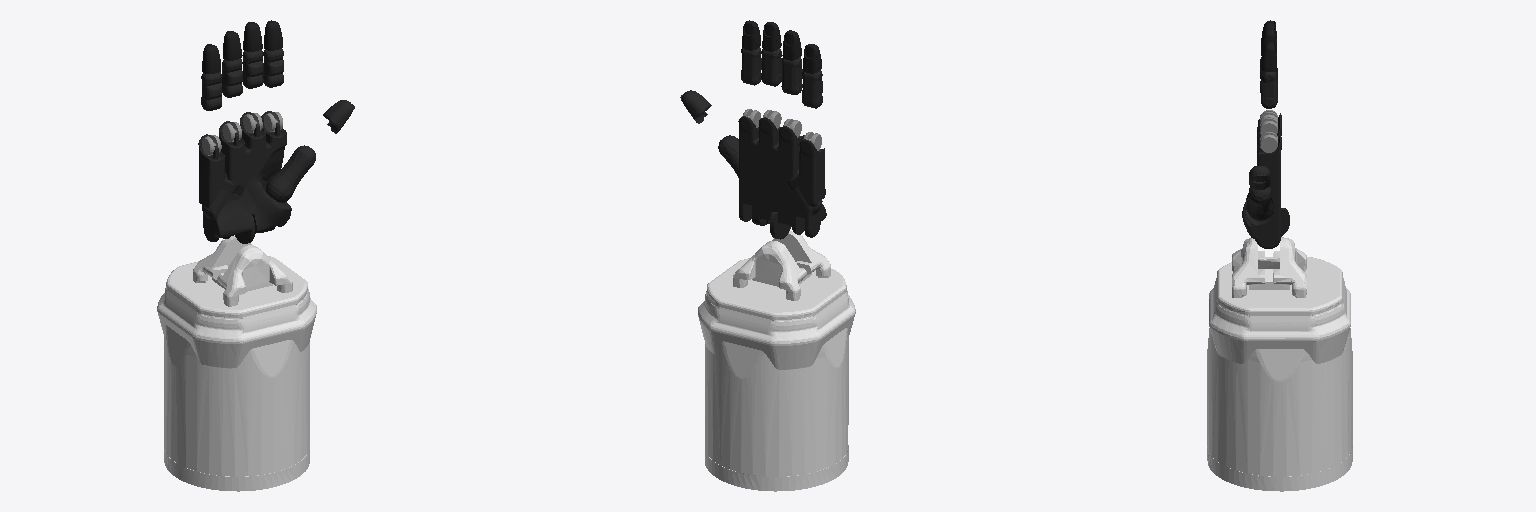
--- Facts derived from the render (not from the file) ---
3 views of the same robot in one strip: view 1: azimuth 30°, elevation 25°; view 2: azimuth 150°, elevation 25°; view 3: azimuth 270°, elevation 25° (orthographic).
Model shadow_hand with 32 links and 31 joints (24 revolute, 7 fixed), rooted at rh_forearm, posed every joint at zero.
Visible links, largest first — view 1: rh_forearm, rh_palm, rh_lfmetacarpal, rh_thproximal, rh_rfmiddle, rh_lfmiddle, rh_mfmiddle, rh_ffmiddle, rh_thdistal; view 2: rh_forearm, rh_palm, rh_lfmetacarpal, rh_rfmiddle, rh_lfmiddle, rh_mfmiddle, rh_ffmiddle, rh_thdistal, rh_thproximal; view 3: rh_forearm, rh_palm, rh_thproximal, rh_ffmiddle.
Link boxes in pixels (x1,y1,x2,y2): rh_forearm: [157, 236, 316, 491]; rh_palm: [202, 111, 291, 243]; rh_lfmetacarpal: [198, 134, 239, 207]; rh_thproximal: [266, 145, 315, 202]; rh_rfmiddle: [222, 59, 242, 97]; rh_lfmiddle: [201, 72, 221, 110]; rh_mfmiddle: [242, 50, 263, 88]; rh_ffmiddle: [263, 49, 283, 87]; rh_thdistal: [323, 100, 354, 133]; rh_forearm: [698, 231, 855, 491]; rh_palm: [738, 116, 826, 239]; rh_lfmetacarpal: [785, 139, 825, 206]; rh_rfmiddle: [781, 57, 802, 94]; rh_lfmiddle: [802, 70, 822, 108]; rh_mfmiddle: [761, 48, 781, 86]; rh_ffmiddle: [741, 47, 761, 85]; rh_thdistal: [680, 90, 711, 123]; rh_thproximal: [718, 135, 738, 177]; rh_forearm: [1207, 237, 1352, 491]; rh_palm: [1242, 115, 1289, 248]; rh_thproximal: [1246, 186, 1272, 220]; rh_ffmiddle: [1260, 71, 1277, 108].
Bounding box of the posed robot: 0.1809 × 0.1351 × 0.4479 m (x, y, z).
17 mesh visuals loaded from 11 distinct referenced files (8 Collada DAE); not drawn: 6 (reference not matched to a file when rendering).

robot.urdf — shadow_hand:
<?xml version="1.0" ?>
<!-- =================================================================================== -->
<!-- |    This document was autogenerated by xacro from shadow_hand.urdf.xacro         | -->
<!-- |    EDITING THIS FILE BY HAND IS NOT RECOMMENDED                                 | -->
<!-- =================================================================================== -->
<robot name="shadow_hand" xmlns:controller="http://playerstage.sourceforge.net/gazebo/xmlschema/#controller" xmlns:interface="http://playerstage.sourceforge.net/gazebo/xmlschema/#interface" xmlns:sensor="http://playerstage.sourceforge.net/gazebo/xmlschema/#sensor">
  <material name="Blue">
    <color rgba="0.0 0.0 0.8 1.0"/>
  </material>
  <material name="Green">
    <color rgba="0.0 0.8 0.0 1.0"/>
  </material>
  <material name="BiotacGreen">
    <color rgba="0.31 0.85 0.42 1.0"/>
  </material>
  <material name="Grey">
    <color rgba="0.2 0.2 0.2 1.0"/>
  </material>
  <material name="LightGrey">
    <color rgba="0.6 0.6 0.6 1.0"/>
  </material>
  <material name="Red">
    <color rgba="0.8 0.0 0.0 1.0"/>
  </material>
  <material name="White">
    <color rgba="1.0 1.0 1.0 1.0"/>
  </material>
  <gazebo>
    <plugin filename="libgazebo_ros_control.so" name="gazebo_ros_control">
      <robotSimType>sr_gazebo_sim/SrGazeboHWSim</robotSimType>
    </plugin>
  </gazebo>
  <link name="rh_forearm">
    <inertial>
      <origin rpy="0 0 0" xyz="0 0 0.09"/>
      <mass value="3.0"/>
      <inertia ixx="0.0138" ixy="0.0" ixz="0.0" iyy="0.0138" iyz="0.0" izz="0.00744"/>
    </inertial>
    <visual>
      <origin rpy="0 0 0" xyz="0 0 0.0"/>
      <geometry name="rh_forearm_visual">
        <mesh filename="package://sr_description/meshes/components/forearm/forearm_E3M5.dae" scale="0.001 0.001 0.001"/>
      </geometry>
      <material name="light_grey">
        <color rgba="0.90000 0.90000 0.90000 1.0"/>
      </material>
    </visual>
    <collision>
      <origin rpy="0 0 0" xyz="0 0 0.0"/>
      <geometry name="rh_forearm_collision">
        <mesh filename="package://sr_description/meshes/components/forearm/forearm_collision_E3M5.dae" scale="0.001 0.001 0.001"/>
      </geometry>
    </collision>
    <!-- wrist mount -->
    <collision>
      <origin rpy="0 0.78 0" xyz="0 -0.01 0.181"/>
      <geometry>
        <box size="0.07 0.07 0.07"/>
      </geometry>
    </collision>
    <!-- TODO: Make a decision on whether to add the connector or not -->
    <!--visual>
        <origin rpy="0 -1.57 -1.57" xyz="0.0 0.067 0.0045"/>
        <geometry name="${prefix}cable_extr_visualisation">
          <mesh filename="package://sr_description/meshes/components/cable_connector/cable_connector_base_${hand_version}.dae" scale="0.001 0.001 0.001" />
        </geometry>
      </visual-->
  </link>
  <gazebo reference="rh_forearm">
    <selfCollide>false</selfCollide>
  </gazebo>
  <link name="rh_wrist">
    <inertial>
      <origin rpy="0 0 0" xyz="0 0 0.029"/>
      <mass value="0.1"/>
      <inertia ixx="0.000035" ixy="0.0" ixz="0.0" iyy="0.000064" iyz="0.0" izz="0.0000438"/>
    </inertial>
    <visual>
      <origin rpy="0 0 0" xyz="0 0 0"/>
      <geometry name="rh_wrist_visual">
        <mesh filename="package://sr_description/meshes/components/wrist/wrist_E3M5.dae" scale="0.001 0.001 0.001"/>
      </geometry>
      <material name="LightGrey"/>
    </visual>
    <collision>
      <origin rpy="1.5708 1.5708 0" xyz="0 0 0"/>
      <geometry name="rh_wrist_collision_geom">
        <cylinder length="0.030" radius="0.0135"/>
      </geometry>
    </collision>
    <collision>
      <origin rpy="0 1.5708 0" xyz="-0.026 0 0.034"/>
      <geometry>
        <cylinder length="0.010" radius="0.011"/>
      </geometry>
    </collision>
    <collision>
      <origin rpy="0 1.5708 0" xyz="0.031 0 0.034"/>
      <geometry>
        <cylinder length="0.010" radius="0.011"/>
      </geometry>
    </collision>
    <collision>
      <origin rpy="0 0.7854 0" xyz="-0.021 0 0.011"/>
      <geometry>
        <box size="0.027 0.018 0.010"/>
      </geometry>
    </collision>
    <collision>
      <origin rpy="0 -0.7854 0" xyz="0.026 0 0.010"/>
      <geometry>
        <box size="0.027 0.018 0.010"/>
      </geometry>
    </collision>
  </link>
  <gazebo reference="rh_wrist">
    <material>Gazebo/White</material>
    <selfCollide>false</selfCollide>
  </gazebo>
  <joint name="rh_WRJ2" type="revolute">
    <parent link="rh_forearm"/>
    <child link="rh_wrist"/>
    <origin rpy="0 0 0" xyz="0 -0.010 0.21301"/>
    <axis xyz="0 1 0"/>
    <limit effort="10" lower="-0.5235987755982988" upper="0.17453292519943295" velocity="2.0"/>
    <dynamics damping="0.1"/>
  </joint>
  <gazebo reference="rh_WRJ2">
    <provideFeedback>1</provideFeedback>
    <implicitSpringDamper>1</implicitSpringDamper>
  </gazebo>
  <transmission name="rh_wrist_transmission">
    <type>sr_mechanism_model/SimpleTransmission</type>
    <actuator name="rh_WRJ2">
      <mechanicalReduction>1</mechanicalReduction>
    </actuator>
    <joint name="rh_WRJ2">
      <hardwareInterface>EffortJointInterface</hardwareInterface>
      <hardwareInterface>PositionJointInterface</hardwareInterface>
    </joint>
  </transmission>
  <link name="rh_palm">
    <inertial>
      <origin rpy="0 0 0" xyz="0 0 0.035"/>
      <mass value="0.3"/>
      <inertia ixx="0.0003581" ixy="0.0" ixz="0.0" iyy="0.0005287" iyz="0.0" izz="0.000191"/>
    </inertial>
    <visual>
      <origin rpy="0 0 0" xyz="0 0 0"/>
      <geometry name="rh_palm_visual">
        <mesh filename="package://sr_description/meshes/components/palm/palm_E3M5.dae" scale="0.001 0.001 0.001"/>
      </geometry>
      <material name="Grey"/>
    </visual>
    <collision>
      <origin rpy="0 0 0" xyz="0.011 0.0085 0.038"/>
      <geometry name="rh_palm_collision_geom">
        <box size="0.062 0.007 0.098"/>
      </geometry>
    </collision>
    <collision>
      <origin rpy="0 0 0" xyz="-0.002 -0.0035 0.038"/>
      <geometry>
        <box size="0.036 0.017 0.098"/>
      </geometry>
    </collision>
    <!-- palm complement below first finger -->
    <collision>
      <origin rpy="0 0 0" xyz="0.029 -0.0035 0.082"/>
      <geometry>
        <box size="0.026 0.017 0.010"/>
      </geometry>
    </collision>
    <collision>
      <origin rpy="0.2 0 0.25" xyz="0.0265 -0.001 0.070"/>
      <geometry>
        <box size="0.026 0.014 0.018"/>
      </geometry>
    </collision>
    <!-- thumb pulp side -->
    <collision>
      <origin rpy="0 0 0" xyz="0.0315 -0.0085 0.001"/>
      <geometry>
        <box size="0.021 0.027 0.024"/>
      </geometry>
    </collision>
    <!-- thumb pulp central -->
    <collision>
      <origin rpy="0 0 -0.48" xyz="0.0125 -0.015 0.009"/>
      <geometry>
        <box size="0.022 0.005 0.040"/>
      </geometry>
    </collision>
    <!-- above middle finger-->
    <collision>
      <origin rpy="0 0 0" xyz="0.011 0 0.089"/>
      <geometry>
        <box size="0.018 0.024 0.004"/>
      </geometry>
    </collision>
    <!-- metacarpal side-->
    <collision>
      <origin rpy="0 0 0" xyz="-0.03 0 0.009"/>
      <geometry>
        <box size="0.020 0.024 0.040"/>
      </geometry>
    </collision>
  </link>
  <joint name="rh_ee_fixed_joint" type="fixed">
    <parent link="rh_palm"/>
    <child link="rh_manipulator"/>
    <origin rpy="0.0 0.0 0.0" xyz="0.0 0.0 0.05"/>
  </joint>
  <link name="rh_manipulator">
    <inertial>
      <mass value="0.0"/>
      <origin rpy="0 0 0" xyz="0 0 0"/>
      <inertia ixx="0.0" ixy="0.0" ixz="0.0" iyy="0.0" iyz="0.0" izz="0.0"/>
    </inertial>
  </link>
  <joint name="rh_WRJ1" type="revolute">
    <parent link="rh_wrist"/>
    <child link="rh_palm"/>
    <origin rpy="0 0 0" xyz="0 0 0.034"/>
    <axis xyz="1 0 0"/>
    <limit effort="30" lower="-0.6981317007977318" upper="0.4886921905584123" velocity="2.0"/>
    <dynamics damping="0.1"/>
  </joint>
  <gazebo reference="rh_WRJ1">
    <provideFeedback>1</provideFeedback>
    <implicitSpringDamper>1</implicitSpringDamper>
  </gazebo>
  <link name="rh_imu">
    <inertial>
      <mass value="0.0"/>
      <origin rpy="0 0 0" xyz="0 0 0"/>
      <inertia ixx="0.0" ixy="0.0" ixz="0.0" iyy="0.0" iyz="0.0" izz="0.0"/>
    </inertial>
  </link>
  <joint name="rh_palm_to_imu" type="fixed">
    <parent link="rh_palm"/>
    <child link="rh_imu"/>
    <origin rpy="-1.5707963 3.141592 0.0" xyz="0.01785 0.00765 0.049125"/>
  </joint>
  <transmission name="rh_palm_transmission">
    <type>sr_mechanism_model/SimpleTransmission</type>
    <actuator name="rh_WRJ1">
      <mechanicalReduction>1</mechanicalReduction>
    </actuator>
    <joint name="rh_WRJ1">
      <hardwareInterface>EffortJointInterface</hardwareInterface>
      <hardwareInterface>PositionJointInterface</hardwareInterface>
    </joint>
  </transmission>
  <gazebo reference="rh_palm">
  </gazebo>
  <link name="rh_ffknuckle">
    <inertial>
      <origin rpy="0 0 0" xyz="0 0 0"/>
      <mass value="0.008"/>
      <inertia ixx="0.00000026" ixy="0.0" ixz="0.0" iyy="0.00000026" iyz="0.0" izz="0.00000032"/>
    </inertial>
    <visual>
      <origin rpy="0 0 0" xyz="0 0 0.0005"/>
      <geometry name="rh_ffknuckle_visual">
        <mesh filename="package://sr_description/meshes/components/f_knuckle/f_knuckle_E3M5.dae" scale="0.001 0.001 0.001"/>
      </geometry>
      <material name="LightGrey"/>
    </visual>
    <collision>
      <origin rpy="0 1.5708 0" xyz="0 0 0"/>
      <geometry name="rh_ffknuckle_collision_geom">
        <cylinder length="0.014" radius="0.007"/>
      </geometry>
    </collision>
  </link>
  <joint name="rh_FFJ4" type="revolute">
    <parent link="rh_palm"/>
    <child link="rh_ffknuckle"/>
    <!--<origin xyz="0.033 0 0.095" rpy="0 0 0" />-->
    <origin rpy="0 0 0" xyz="0.033 0 0.095"/>
    <axis xyz="0 -1 0"/>
    <limit effort="2" lower="-0.3490658503988659" upper="0.3490658503988659" velocity="2.0"/>
    <dynamics damping="0.1"/>
  </joint>
  <gazebo reference="rh_FFJ4">
    <provideFeedback>1</provideFeedback>
    <implicitSpringDamper>1</implicitSpringDamper>
  </gazebo>
  <transmission name="rh_ffknuckle_transmission">
    <type>sr_mechanism_model/SimpleTransmission</type>
    <actuator name="rh_FFJ4">
      <mechanicalReduction>1</mechanicalReduction>
    </actuator>
    <joint name="rh_FFJ4">
      <hardwareInterface>EffortJointInterface</hardwareInterface>
      <hardwareInterface>PositionJointInterface</hardwareInterface>
    </joint>
  </transmission>
  <gazebo reference="rh_ffknuckle">
    <!-- knuckle is not highly exposed, so bumper is not useful -->
    <material>Gazebo/Grey</material>
  </gazebo>
  <link name="rh_ffproximal">
    <inertial>
      <mass value="0.030"/>
      <origin xyz="0 0 0.0225"/>
      <inertia ixx="0.0000098" ixy="0.0" ixz="0.0" iyy="0.00001" iyz="0.0" izz="0.0000018"/>
    </inertial>
    <visual>
      <origin rpy="0 0 0" xyz="0 0 0"/>
      <geometry name="rh_ffproximal_visual">
        <mesh filename="package://sr_description/meshes/components/f_proximal/f_proximal_E3M5.dae" scale="0.001 0.001 0.001"/>
      </geometry>
      <material name="Grey"/>
    </visual>
    <collision>
      <origin rpy="0 0 0" xyz="0 0 0.025"/>
      <geometry name="rh_ffproximal_collision_geom">
        <cylinder length="0.040" radius="0.007"/>
      </geometry>
    </collision>
  </link>
  <joint name="rh_FFJ3" type="revolute">
    <parent link="rh_ffknuckle"/>
    <child link="rh_ffproximal"/>
    <origin rpy="0 0 0" xyz="0 0 0"/>
    <axis xyz="1 0 0"/>
    <limit effort="2" lower="-0.2617993877991494" upper="1.5707963267948966" velocity="2.0"/>
    <dynamics damping="0.1"/>
  </joint>
  <gazebo reference="rh_FFJ3">
    <provideFeedback>1</provideFeedback>
    <implicitSpringDamper>1</implicitSpringDamper>
  </gazebo>
  <transmission name="rh_ffproximal_transmission">
    <type>sr_mechanism_model/SimpleTransmission</type>
    <actuator name="rh_FFJ3">
      <mechanicalReduction>1</mechanicalReduction>
    </actuator>
    <joint name="rh_FFJ3">
      <hardwareInterface>EffortJointInterface</hardwareInterface>
      <hardwareInterface>PositionJointInterface</hardwareInterface>
    </joint>
  </transmission>
  <gazebo reference="rh_ffproximal">
    <selfCollide>true</selfCollide>
  </gazebo>
  <link name="rh_ffmiddle">
    <inertial>
      <origin rpy="0 0 0" xyz="0 0 0.0125"/>
      <mass value="0.017"/>
      <inertia ixx="0.0000026" ixy="0.0" ixz="0.0" iyy="0.0000027" iyz="0.0" izz="0.00000087"/>
    </inertial>
    <visual>
      <origin rpy="0 0 0" xyz="0 0 0"/>
      <geometry name="rh_ffmiddle_visual">
        <mesh filename="package://sr_description/meshes/components/f_middle/f_middle_E3M5.dae" scale="0.001 0.001 0.001"/>
      </geometry>
      <material name="Grey"/>
    </visual>
    <collision>
      <origin rpy="0 0 0" xyz="0 0 0.0125"/>
      <geometry name="rh_ffmiddle_collision_geom">
        <cylinder length="0.025" radius="0.007"/>
      </geometry>
    </collision>
    <collision>
      <origin rpy="0 0 0" xyz="0 0 0.0"/>
      <geometry>
        <sphere radius="0.007"/>
      </geometry>
    </collision>
    <collision>
      <origin rpy="0 0 0" xyz="0 0 0.025"/>
      <geometry>
        <sphere radius="0.007"/>
      </geometry>
    </collision>
  </link>
  <joint name="rh_FFJ2" type="revolute">
    <parent link="rh_ffproximal"/>
    <child link="rh_ffmiddle"/>
    <origin rpy="0 0 0" xyz="0 0 0.045"/>
    <axis xyz="1 0 0"/>
    <limit effort="2" lower="0" upper="1.5707963267948966" velocity="2.0"/>
    <dynamics damping="0.1"/>
  </joint>
  <gazebo reference="rh_FFJ2">
    <provideFeedback>1</provideFeedback>
    <implicitSpringDamper>1</implicitSpringDamper>
  </gazebo>
  <transmission name="rh_ffmiddle_transmission">
    <type>sr_mechanism_model/J0Transmission</type>
    <actuator name="rh_FFJ0">
      <mechanicalReduction>1</mechanicalReduction>
    </actuator>
    <joint name="rh_FFJ1">
      <hardwareInterface>EffortJointInterface</hardwareInterface>
      <hardwareInterface>PositionJointInterface</hardwareInterface>
    </joint>
  </transmission>
  <gazebo reference="rh_ffmiddle">
    <selfCollide>true</selfCollide>
  </gazebo>
  <link name="rh_ffdistal">
    <inertial>
      <mass value="0.012"/>
      <origin xyz="0 0 0.012"/>
      <inertia ixx="0.00000094" ixy="0.0" ixz="0.0" iyy="0.0000011" iyz="0.0" izz="0.00000053"/>
    </inertial>
    <visual>
      <origin rpy="0 0 0" xyz="0 0 0"/>
      <geometry name="rh_ffdistal_visual">
        <mesh filename="package://sr_description/meshes/components/f_distal/pst/f_distal_pst.dae" scale="0.001 0.001 0.001"/>
      </geometry>
    </visual>
    <collision>
      <origin rpy="0 0 0" xyz="0 0 0"/>
      <geometry name="rh_ffdistal_collision_geom">
        <mesh filename="package://sr_description/meshes/components/f_distal/pst/f_distal_pst.dae" scale="0.001 0.001 0.001"/>
      </geometry>
    </collision>
  </link>
  <joint name="rh_FFJ1" type="revolute">
    <parent link="rh_ffmiddle"/>
    <child link="rh_ffdistal"/>
    <origin rpy="0 0 0" xyz="0 0 0.025"/>
    <axis xyz="1 0 0"/>
    <!-- standard distal joint -->
    <limit effort="2" lower="0" upper="1.5707963267948966" velocity="2.0"/>
    <dynamics damping="0.1"/>
  </joint>
  <gazebo reference="rh_FFJ1">
    <provideFeedback>1</provideFeedback>
    <implicitSpringDamper>1</implicitSpringDamper>
  </gazebo>
  <link name="rh_fftip">
    <inertial>
      <mass value="0.001"/>
      <inertia ixx="0.0" ixy="0.0" ixz="0.0" iyy="0.0" iyz="0.0" izz="0.0"/>
    </inertial>
  </link>
  <joint name="rh_FFtip" type="fixed">
    <parent link="rh_ffdistal"/>
    <child link="rh_fftip"/>
    <origin rpy="0 0 0" xyz="0 0 0.026"/>
  </joint>
  <gazebo reference="rh_ffdistal">
    <sensor name="rh_ffdistal_contact" type="contact">
      <always_on>1</always_on>
      <update_rate>1000.0</update_rate>
      <contact>
        <collision>rh_ffdistal_collision</collision>
        <topic>rh_ffdistal_collision</topic>
      </contact>
      <plugin filename="libgazebo_ros_bumper.so" name="rh_ffdistal_gazebo_ros_bumper_controller">
        <alwaysOn>true</alwaysOn>
        <frameName>rh_ffdistal</frameName>
        <updateRate>100.0</updateRate>
        <bumperTopicName>contacts/rh_ff/distal</bumperTopicName>
      </plugin>
    </sensor>
    <mu1 value="500.0"/>
    <mu2 value="500.0"/>
    <kp value="10000000.0"/>
    <kd value="1.0"/>
    <selfCollide>true</selfCollide>
  </gazebo>
  <link name="rh_mfknuckle">
    <inertial>
      <origin rpy="0 0 0" xyz="0 0 0"/>
      <mass value="0.008"/>
      <inertia ixx="0.00000026" ixy="0.0" ixz="0.0" iyy="0.00000026" iyz="0.0" izz="0.00000032"/>
    </inertial>
    <visual>
      <origin rpy="0 0 0" xyz="0 0 0.0005"/>
      <geometry name="rh_mfknuckle_visual">
        <mesh filename="package://sr_description/meshes/components/f_knuckle/f_knuckle_E3M5.dae" scale="0.001 0.001 0.001"/>
      </geometry>
      <material name="LightGrey"/>
    </visual>
    <collision>
      <origin rpy="0 1.5708 0" xyz="0 0 0"/>
      <geometry name="rh_mfknuckle_collision_geom">
        <cylinder length="0.014" radius="0.007"/>
      </geometry>
    </collision>
  </link>
  <joint name="rh_MFJ4" type="revolute">
    <parent link="rh_palm"/>
    <child link="rh_mfknuckle"/>
    <!--<origin xyz="0.033 0 0.095" rpy="0 0 0" />-->
    <origin rpy="0 0 0" xyz="0.011 0 0.099"/>
    <axis xyz="0 -1 0"/>
    <limit effort="2" lower="-0.3490658503988659" upper="0.3490658503988659" velocity="2.0"/>
    <dynamics damping="0.1"/>
  </joint>
  <gazebo reference="rh_MFJ4">
    <provideFeedback>1</provideFeedback>
    <implicitSpringDamper>1</implicitSpringDamper>
  </gazebo>
  <transmission name="rh_mfknuckle_transmission">
    <type>sr_mechanism_model/SimpleTransmission</type>
    <actuator name="rh_MFJ4">
      <mechanicalReduction>1</mechanicalReduction>
    </actuator>
    <joint name="rh_MFJ4">
      <hardwareInterface>EffortJointInterface</hardwareInterface>
      <hardwareInterface>PositionJointInterface</hardwareInterface>
    </joint>
  </transmission>
  <gazebo reference="rh_mfknuckle">
    <!-- knuckle is not highly exposed, so bumper is not useful -->
    <material>Gazebo/Grey</material>
  </gazebo>
  <link name="rh_mfproximal">
    <inertial>
      <mass value="0.030"/>
      <origin xyz="0 0 0.0225"/>
      <inertia ixx="0.0000098" ixy="0.0" ixz="0.0" iyy="0.00001" iyz="0.0" izz="0.0000018"/>
    </inertial>
    <visual>
      <origin rpy="0 0 0" xyz="0 0 0"/>
      <geometry name="rh_mfproximal_visual">
        <mesh filename="package://sr_description/meshes/components/f_proximal/f_proximal_E3M5.dae" scale="0.001 0.001 0.001"/>
      </geometry>
      <material name="Grey"/>
    </visual>
    <collision>
      <origin rpy="0 0 0" xyz="0 0 0.025"/>
      <geometry name="rh_mfproximal_collision_geom">
        <cylinder length="0.040" radius="0.007"/>
      </geometry>
    </collision>
  </link>
  <joint name="rh_MFJ3" type="revolute">
    <parent link="rh_mfknuckle"/>
    <child link="rh_mfproximal"/>
    <origin rpy="0 0 0" xyz="0 0 0"/>
    <axis xyz="1 0 0"/>
    <limit effort="2" lower="-0.2617993877991494" upper="1.5707963267948966" velocity="2.0"/>
    <dynamics damping="0.1"/>
  </joint>
  <gazebo reference="rh_MFJ3">
    <provideFeedback>1</provideFeedback>
    <implicitSpringDamper>1</implicitSpringDamper>
  </gazebo>
  <transmission name="rh_mfproximal_transmission">
    <type>sr_mechanism_model/SimpleTransmission</type>
    <actuator name="rh_MFJ3">
      <mechanicalReduction>1</mechanicalReduction>
    </actuator>
    <joint name="rh_MFJ3">
      <hardwareInterface>EffortJointInterface</hardwareInterface>
      <hardwareInterface>PositionJointInterface</hardwareInterface>
    </joint>
  </transmission>
  <gazebo reference="rh_mfproximal">
    <selfCollide>true</selfCollide>
  </gazebo>
  <link name="rh_mfmiddle">
    <inertial>
      <origin rpy="0 0 0" xyz="0 0 0.0125"/>
      <mass value="0.017"/>
      <inertia ixx="0.0000026" ixy="0.0" ixz="0.0" iyy="0.0000027" iyz="0.0" izz="0.00000087"/>
    </inertial>
    <visual>
      <origin rpy="0 0 0" xyz="0 0 0"/>
      <geometry name="rh_mfmiddle_visual">
        <mesh filename="package://sr_description/meshes/components/f_middle/f_middle_E3M5.dae" scale="0.001 0.001 0.001"/>
      </geometry>
      <material name="Grey"/>
    </visual>
    <collision>
      <origin rpy="0 0 0" xyz="0 0 0.0125"/>
      <geometry name="rh_mfmiddle_collision_geom">
        <cylinder length="0.025" radius="0.007"/>
      </geometry>
    </collision>
    <collision>
      <origin rpy="0 0 0" xyz="0 0 0.0"/>
      <geometry>
        <sphere radius="0.007"/>
      </geometry>
    </collision>
    <collision>
      <origin rpy="0 0 0" xyz="0 0 0.025"/>
      <geometry>
        <sphere radius="0.007"/>
      </geometry>
    </collision>
  </link>
  <joint name="rh_MFJ2" type="revolute">
    <parent link="rh_mfproximal"/>
    <child link="rh_mfmiddle"/>
    <origin rpy="0 0 0" xyz="0 0 0.045"/>
    <axis xyz="1 0 0"/>
    <limit effort="2" lower="0" upper="1.5707963267948966" velocity="2.0"/>
    <dynamics damping="0.1"/>
  </joint>
  <gazebo reference="rh_MFJ2">
    <provideFeedback>1</provideFeedback>
    <implicitSpringDamper>1</implicitSpringDamper>
  </gazebo>
  <transmission name="rh_mfmiddle_transmission">
    <type>sr_mechanism_model/J0Transmission</type>
    <actuator name="rh_MFJ0">
      <mechanicalReduction>1</mechanicalReduction>
    </actuator>
    <joint name="rh_MFJ1">
      <hardwareInterface>EffortJointInterface</hardwareInterface>
      <hardwareInterface>PositionJointInterface</hardwareInterface>
    </joint>
  </transmission>
  <gazebo reference="rh_mfmiddle">
    <selfCollide>true</selfCollide>
  </gazebo>
  <link name="rh_mfdistal">
    <inertial>
      <mass value="0.012"/>
      <origin xyz="0 0 0.012"/>
      <inertia ixx="0.00000094" ixy="0.0" ixz="0.0" iyy="0.0000011" iyz="0.0" izz="0.00000053"/>
    </inertial>
    <visual>
      <origin rpy="0 0 0" xyz="0 0 0"/>
      <geometry name="rh_mfdistal_visual">
        <mesh filename="package://sr_description/meshes/components/f_distal/pst/f_distal_pst.dae" scale="0.001 0.001 0.001"/>
      </geometry>
    </visual>
    <collision>
      <origin rpy="0 0 0" xyz="0 0 0"/>
      <geometry name="rh_mfdistal_collision_geom">
        <mesh filename="package://sr_description/meshes/components/f_distal/pst/f_distal_pst.dae" scale="0.001 0.001 0.001"/>
      </geometry>
    </collision>
  </link>
  <joint name="rh_MFJ1" type="revolute">
    <parent link="rh_mfmiddle"/>
    <child link="rh_mfdistal"/>
    <origin rpy="0 0 0" xyz="0 0 0.025"/>
    <axis xyz="1 0 0"/>
    <!-- standard distal joint -->
    <limit effort="2" lower="0" upper="1.5707963267948966" velocity="2.0"/>
    <dynamics damping="0.1"/>
  </joint>
  <gazebo reference="rh_MFJ1">
    <provideFeedback>1</provideFeedback>
    <implicitSpringDamper>1</implicitSpringDamper>
  </gazebo>
  <link name="rh_mftip">
    <inertial>
      <mass value="0.001"/>
      <inertia ixx="0.0" ixy="0.0" ixz="0.0" iyy="0.0" iyz="0.0" izz="0.0"/>
    </inertial>
  </link>
  <joint name="rh_MFtip" type="fixed">
    <parent link="rh_mfdistal"/>
    <child link="rh_mftip"/>
    <origin rpy="0 0 0" xyz="0 0 0.026"/>
  </joint>
  <gazebo reference="rh_mfdistal">
    <sensor name="rh_mfdistal_contact" type="contact">
      <always_on>1</always_on>
      <update_rate>1000.0</update_rate>
      <contact>
        <collision>rh_mfdistal_collision</collision>
        <topic>rh_mfdistal_collision</topic>
      </contact>
      <plugin filename="libgazebo_ros_bumper.so" name="rh_mfdistal_gazebo_ros_bumper_controller">
        <alwaysOn>true</alwaysOn>
        <frameName>rh_mfdistal</frameName>
        <updateRate>100.0</updateRate>
        <bumperTopicName>contacts/rh_mf/distal</bumperTopicName>
      </plugin>
    </sensor>
    <mu1 value="500.0"/>
    <mu2 value="500.0"/>
    <kp value="10000000.0"/>
    <kd value="1.0"/>
    <selfCollide>true</selfCollide>
  </gazebo>
  <link name="rh_rfknuckle">
    <inertial>
      <origin rpy="0 0 0" xyz="0 0 0"/>
      <mass value="0.008"/>
      <inertia ixx="0.00000026" ixy="0.0" ixz="0.0" iyy="0.00000026" iyz="0.0" izz="0.00000032"/>
    </inertial>
    <visual>
      <origin rpy="0 0 0" xyz="0 0 0.0005"/>
      <geometry name="rh_rfknuckle_visual">
        <mesh filename="package://sr_description/meshes/components/f_knuckle/f_knuckle_E3M5.dae" scale="0.001 0.001 0.001"/>
      </geometry>
      <material name="LightGrey"/>
    </visual>
    <collision>
      <origin rpy="0 1.5708 0" xyz="0 0 0"/>
      <geometry name="rh_rfknuckle_collision_geom">
        <cylinder length="0.014" radius="0.007"/>
      </geometry>
    </collision>
  </link>
  <joint name="rh_RFJ4" type="revolute">
    <parent link="rh_palm"/>
    <child link="rh_rfknuckle"/>
    <!--<origin xyz="0.033 0 0.095" rpy="0 0 0" />-->
    <origin rpy="0 0 0" xyz="-0.011 0 0.095"/>
    <axis xyz="0 1 0"/>
    <limit effort="2" lower="-0.3490658503988659" upper="0.3490658503988659" velocity="2.0"/>
    <dynamics damping="0.1"/>
  </joint>
  <gazebo reference="rh_RFJ4">
    <provideFeedback>1</provideFeedback>
    <implicitSpringDamper>1</implicitSpringDamper>
  </gazebo>
  <transmission name="rh_rfknuckle_transmission">
    <type>sr_mechanism_model/SimpleTransmission</type>
    <actuator name="rh_RFJ4">
      <mechanicalReduction>1</mechanicalReduction>
    </actuator>
    <joint name="rh_RFJ4">
      <hardwareInterface>EffortJointInterface</hardwareInterface>
      <hardwareInterface>PositionJointInterface</hardwareInterface>
    </joint>
  </transmission>
  <gazebo reference="rh_rfknuckle">
    <!-- knuckle is not highly exposed, so bumper is not useful -->
    <material>Gazebo/Grey</material>
  </gazebo>
  <link name="rh_rfproximal">
    <inertial>
      <mass value="0.030"/>
      <origin xyz="0 0 0.0225"/>
      <inertia ixx="0.0000098" ixy="0.0" ixz="0.0" iyy="0.00001" iyz="0.0" izz="0.0000018"/>
    </inertial>
    <visual>
      <origin rpy="0 0 0" xyz="0 0 0"/>
      <geometry name="rh_rfproximal_visual">
        <mesh filename="package://sr_description/meshes/components/f_proximal/f_proximal_E3M5.dae" scale="0.001 0.001 0.001"/>
      </geometry>
      <material name="Grey"/>
    </visual>
    <collision>
      <origin rpy="0 0 0" xyz="0 0 0.025"/>
      <geometry name="rh_rfproximal_collision_geom">
        <cylinder length="0.040" radius="0.007"/>
      </geometry>
    </collision>
  </link>
  <joint name="rh_RFJ3" type="revolute">
    <parent link="rh_rfknuckle"/>
    <child link="rh_rfproximal"/>
    <origin rpy="0 0 0" xyz="0 0 0"/>
    <axis xyz="1 0 0"/>
    <limit effort="2" lower="-0.2617993877991494" upper="1.5707963267948966" velocity="2.0"/>
    <dynamics damping="0.1"/>
  </joint>
  <gazebo reference="rh_RFJ3">
    <provideFeedback>1</provideFeedback>
    <implicitSpringDamper>1</implicitSpringDamper>
  </gazebo>
  <transmission name="rh_rfproximal_transmission">
    <type>sr_mechanism_model/SimpleTransmission</type>
    <actuator name="rh_RFJ3">
      <mechanicalReduction>1</mechanicalReduction>
    </actuator>
    <joint name="rh_RFJ3">
      <hardwareInterface>EffortJointInterface</hardwareInterface>
      <hardwareInterface>PositionJointInterface</hardwareInterface>
    </joint>
  </transmission>
  <gazebo reference="rh_rfproximal">
    <selfCollide>true</selfCollide>
  </gazebo>
  <link name="rh_rfmiddle">
    <inertial>
      <origin rpy="0 0 0" xyz="0 0 0.0125"/>
      <mass value="0.017"/>
      <inertia ixx="0.0000026" ixy="0.0" ixz="0.0" iyy="0.0000027" iyz="0.0" izz="0.00000087"/>
    </inertial>
    <visual>
      <origin rpy="0 0 0" xyz="0 0 0"/>
      <geometry name="rh_rfmiddle_visual">
        <mesh filename="package://sr_description/meshes/components/f_middle/f_middle_E3M5.dae" scale="0.001 0.001 0.001"/>
      </geometry>
      <material name="Grey"/>
    </visual>
    <collision>
      <origin rpy="0 0 0" xyz="0 0 0.0125"/>
      <geometry name="rh_rfmiddle_collision_geom">
        <cylinder length="0.025" radius="0.007"/>
      </geometry>
    </collision>
    <collision>
      <origin rpy="0 0 0" xyz="0 0 0.0"/>
      <geometry>
        <sphere radius="0.007"/>
      </geometry>
    </collision>
    <collision>
      <origin rpy="0 0 0" xyz="0 0 0.025"/>
      <geometry>
        <sphere radius="0.007"/>
      </geometry>
    </collision>
  </link>
  <joint name="rh_RFJ2" type="revolute">
    <parent link="rh_rfproximal"/>
    <child link="rh_rfmiddle"/>
    <origin rpy="0 0 0" xyz="0 0 0.045"/>
    <axis xyz="1 0 0"/>
    <limit effort="2" lower="0" upper="1.5707963267948966" velocity="2.0"/>
    <dynamics damping="0.1"/>
  </joint>
  <gazebo reference="rh_RFJ2">
    <provideFeedback>1</provideFeedback>
    <implicitSpringDamper>1</implicitSpringDamper>
  </gazebo>
  <transmission name="rh_rfmiddle_transmission">
    <type>sr_mechanism_model/J0Transmission</type>
    <actuator name="rh_RFJ0">
      <mechanicalReduction>1</mechanicalReduction>
    </actuator>
    <joint name="rh_RFJ1">
      <hardwareInterface>EffortJointInterface</hardwareInterface>
      <hardwareInterface>PositionJointInterface</hardwareInterface>
    </joint>
  </transmission>
  <gazebo reference="rh_rfmiddle">
    <selfCollide>true</selfCollide>
  </gazebo>
  <link name="rh_rfdistal">
    <inertial>
      <mass value="0.012"/>
      <origin xyz="0 0 0.012"/>
      <inertia ixx="0.00000094" ixy="0.0" ixz="0.0" iyy="0.0000011" iyz="0.0" izz="0.00000053"/>
    </inertial>
    <visual>
      <origin rpy="0 0 0" xyz="0 0 0"/>
      <geometry name="rh_rfdistal_visual">
        <mesh filename="package://sr_description/meshes/components/f_distal/pst/f_distal_pst.dae" scale="0.001 0.001 0.001"/>
      </geometry>
    </visual>
    <collision>
      <origin rpy="0 0 0" xyz="0 0 0"/>
      <geometry name="rh_rfdistal_collision_geom">
        <mesh filename="package://sr_description/meshes/components/f_distal/pst/f_distal_pst.dae" scale="0.001 0.001 0.001"/>
      </geometry>
    </collision>
  </link>
  <joint name="rh_RFJ1" type="revolute">
    <parent link="rh_rfmiddle"/>
    <child link="rh_rfdistal"/>
    <origin rpy="0 0 0" xyz="0 0 0.025"/>
    <axis xyz="1 0 0"/>
    <!-- standard distal joint -->
    <limit effort="2" lower="0" upper="1.5707963267948966" velocity="2.0"/>
    <dynamics damping="0.1"/>
  </joint>
  <gazebo reference="rh_RFJ1">
    <provideFeedback>1</provideFeedback>
    <implicitSpringDamper>1</implicitSpringDamper>
  </gazebo>
  <link name="rh_rftip">
    <inertial>
      <mass value="0.001"/>
      <inertia ixx="0.0" ixy="0.0" ixz="0.0" iyy="0.0" iyz="0.0" izz="0.0"/>
    </inertial>
  </link>
  <joint name="rh_RFtip" type="fixed">
    <parent link="rh_rfdistal"/>
    <child link="rh_rftip"/>
    <origin rpy="0 0 0" xyz="0 0 0.026"/>
  </joint>
  <gazebo reference="rh_rfdistal">
    <sensor name="rh_rfdistal_contact" type="contact">
      <always_on>1</always_on>
      <update_rate>1000.0</update_rate>
      <contact>
        <collision>rh_rfdistal_collision</collision>
        <topic>rh_rfdistal_collision</topic>
      </contact>
      <plugin filename="libgazebo_ros_bumper.so" name="rh_rfdistal_gazebo_ros_bumper_controller">
        <alwaysOn>true</alwaysOn>
        <frameName>rh_rfdistal</frameName>
        <updateRate>100.0</updateRate>
        <bumperTopicName>contacts/rh_rf/distal</bumperTopicName>
      </plugin>
    </sensor>
    <mu1 value="500.0"/>
    <mu2 value="500.0"/>
    <kp value="10000000.0"/>
    <kd value="1.0"/>
    <selfCollide>true</selfCollide>
  </gazebo>
  <link name="rh_lfmetacarpal">
    <inertial>
      <origin rpy="0 0 0" xyz="0 0 0.04"/>
      <mass value="0.030"/>
      <inertia ixx="0.0000145" ixy="0.0" ixz="0.0" iyy="0.00001638" iyz="0.0" izz="0.000004272"/>
    </inertial>
    <visual>
      <origin rpy="0 0.9599 0" xyz="0 0 0"/>
      <axis xyz="0.573576436 0 0.819152044"/>
      <geometry name="rh_lfmetacarpal_visual">
        <mesh filename="package://sr_description/meshes/components/lf_metacarpal/lf_metacarpal_E3M5.dae" scale="0.001 0.001 0.001"/>
      </geometry>
      <material name="Grey"/>
    </visual>
    <collision>
      <origin rpy="0 0 0" xyz="0 0 0.038"/>
      <geometry name="rh_lfmetacarpal_collision_geom">
        <box size="0.018 0.024 0.040"/>
      </geometry>
    </collision>
  </link>
  <joint name="rh_LFJ5" type="revolute">
    <parent link="rh_palm"/>
    <child link="rh_lfmetacarpal"/>
    <origin rpy="0 -0.9599 0" xyz="-0.033 0 0.02071"/>
    <axis xyz="1 0 0"/>
    <limit effort="2" lower="0" upper="0.7853981633974483" velocity="2.0"/>
    <dynamics damping="0.1"/>
  </joint>
  <gazebo reference="rh_LFJ5">
    <provideFeedback>1</provideFeedback>
    <implicitSpringDamper>1</implicitSpringDamper>
  </gazebo>
  <transmission name="rh_lfmetacarpal_transmission">
    <type>sr_mechanism_model/SimpleTransmission</type>
    <actuator name="rh_LFJ5">
      <mechanicalReduction>1</mechanicalReduction>
    </actuator>
    <joint name="rh_LFJ5">
      <hardwareInterface>EffortJointInterface</hardwareInterface>
      <hardwareInterface>PositionJointInterface</hardwareInterface>
    </joint>
  </transmission>
  <gazebo reference="rh_lfmetacarpal">
    <selfCollide>true</selfCollide>
  </gazebo>
  <link name="rh_lfknuckle">
    <inertial>
      <origin rpy="0 0 0" xyz="0 0 0"/>
      <mass value="0.008"/>
      <inertia ixx="0.00000026" ixy="0.0" ixz="0.0" iyy="0.00000026" iyz="0.0" izz="0.00000032"/>
    </inertial>
    <visual>
      <origin rpy="0 0 0" xyz="0 0 0.0005"/>
      <geometry name="rh_lfknuckle_visual">
        <mesh filename="package://sr_description/meshes/components/f_knuckle/f_knuckle_E3M5.dae" scale="0.001 0.001 0.001"/>
      </geometry>
      <material name="LightGrey"/>
    </visual>
    <collision>
      <origin rpy="0 1.5708 0" xyz="0 0 0"/>
      <geometry name="rh_lfknuckle_collision_geom">
        <cylinder length="0.014" radius="0.007"/>
      </geometry>
    </collision>
  </link>
  <joint name="rh_LFJ4" type="revolute">
    <parent link="rh_lfmetacarpal"/>
    <child link="rh_lfknuckle"/>
    <!--<origin xyz="0.033 0 0.095" rpy="0 0 0" />-->
    <origin rpy="0 0.9599 0" xyz="0.05389084 0 0.03773727"/>
    <axis xyz="0 1 0"/>
    <limit effort="2" lower="-0.3490658503988659" upper="0.3490658503988659" velocity="2.0"/>
    <dynamics damping="0.1"/>
  </joint>
  <gazebo reference="rh_LFJ4">
    <provideFeedback>1</provideFeedback>
    <implicitSpringDamper>1</implicitSpringDamper>
  </gazebo>
  <transmission name="rh_lfknuckle_transmission">
    <type>sr_mechanism_model/SimpleTransmission</type>
    <actuator name="rh_LFJ4">
      <mechanicalReduction>1</mechanicalReduction>
    </actuator>
    <joint name="rh_LFJ4">
      <hardwareInterface>EffortJointInterface</hardwareInterface>
      <hardwareInterface>PositionJointInterface</hardwareInterface>
    </joint>
  </transmission>
  <gazebo reference="rh_lfknuckle">
    <!-- knuckle is not highly exposed, so bumper is not useful -->
    <material>Gazebo/Grey</material>
  </gazebo>
  <link name="rh_lfproximal">
    <inertial>
      <mass value="0.030"/>
      <origin xyz="0 0 0.0225"/>
      <inertia ixx="0.0000098" ixy="0.0" ixz="0.0" iyy="0.00001" iyz="0.0" izz="0.0000018"/>
    </inertial>
    <visual>
      <origin rpy="0 0 0" xyz="0 0 0"/>
      <geometry name="rh_lfproximal_visual">
        <mesh filename="package://sr_description/meshes/components/f_proximal/f_proximal_E3M5.dae" scale="0.001 0.001 0.001"/>
      </geometry>
      <material name="Grey"/>
    </visual>
    <collision>
      <origin rpy="0 0 0" xyz="0 0 0.025"/>
      <geometry name="rh_lfproximal_collision_geom">
        <cylinder length="0.040" radius="0.007"/>
      </geometry>
    </collision>
  </link>
  <joint name="rh_LFJ3" type="revolute">
    <parent link="rh_lfknuckle"/>
    <child link="rh_lfproximal"/>
    <origin rpy="0 0 0" xyz="0 0 0"/>
    <axis xyz="1 0 0"/>
    <limit effort="2" lower="-0.2617993877991494" upper="1.5707963267948966" velocity="2.0"/>
    <dynamics damping="0.1"/>
  </joint>
  <gazebo reference="rh_LFJ3">
    <provideFeedback>1</provideFeedback>
    <implicitSpringDamper>1</implicitSpringDamper>
  </gazebo>
  <transmission name="rh_lfproximal_transmission">
    <type>sr_mechanism_model/SimpleTransmission</type>
    <actuator name="rh_LFJ3">
      <mechanicalReduction>1</mechanicalReduction>
    </actuator>
    <joint name="rh_LFJ3">
      <hardwareInterface>EffortJointInterface</hardwareInterface>
      <hardwareInterface>PositionJointInterface</hardwareInterface>
    </joint>
  </transmission>
  <gazebo reference="rh_lfproximal">
    <selfCollide>true</selfCollide>
  </gazebo>
  <link name="rh_lfmiddle">
    <inertial>
      <origin rpy="0 0 0" xyz="0 0 0.0125"/>
      <mass value="0.017"/>
      <inertia ixx="0.0000026" ixy="0.0" ixz="0.0" iyy="0.0000027" iyz="0.0" izz="0.00000087"/>
    </inertial>
    <visual>
      <origin rpy="0 0 0" xyz="0 0 0"/>
      <geometry name="rh_lfmiddle_visual">
        <mesh filename="package://sr_description/meshes/components/f_middle/f_middle_E3M5.dae" scale="0.001 0.001 0.001"/>
      </geometry>
      <material name="Grey"/>
    </visual>
    <collision>
      <origin rpy="0 0 0" xyz="0 0 0.0125"/>
      <geometry name="rh_lfmiddle_collision_geom">
        <cylinder length="0.025" radius="0.007"/>
      </geometry>
    </collision>
    <collision>
      <origin rpy="0 0 0" xyz="0 0 0.0"/>
      <geometry>
        <sphere radius="0.007"/>
      </geometry>
    </collision>
    <collision>
      <origin rpy="0 0 0" xyz="0 0 0.025"/>
      <geometry>
        <sphere radius="0.007"/>
      </geometry>
    </collision>
  </link>
  <joint name="rh_LFJ2" type="revolute">
    <parent link="rh_lfproximal"/>
    <child link="rh_lfmiddle"/>
    <origin rpy="0 0 0" xyz="0 0 0.045"/>
    <axis xyz="1 0 0"/>
    <limit effort="2" lower="0" upper="1.5707963267948966" velocity="2.0"/>
    <dynamics damping="0.1"/>
  </joint>
  <gazebo reference="rh_LFJ2">
    <provideFeedback>1</provideFeedback>
    <implicitSpringDamper>1</implicitSpringDamper>
  </gazebo>
  <transmission name="rh_lfmiddle_transmission">
    <type>sr_mechanism_model/J0Transmission</type>
    <actuator name="rh_LFJ0">
      <mechanicalReduction>1</mechanicalReduction>
    </actuator>
    <joint name="rh_LFJ1">
      <hardwareInterface>EffortJointInterface</hardwareInterface>
      <hardwareInterface>PositionJointInterface</hardwareInterface>
    </joint>
  </transmission>
  <gazebo reference="rh_lfmiddle">
    <selfCollide>true</selfCollide>
  </gazebo>
  <link name="rh_lfdistal">
    <inertial>
      <mass value="0.012"/>
      <origin xyz="0 0 0.012"/>
      <inertia ixx="0.00000094" ixy="0.0" ixz="0.0" iyy="0.0000011" iyz="0.0" izz="0.00000053"/>
    </inertial>
    <visual>
      <origin rpy="0 0 0" xyz="0 0 0"/>
      <geometry name="rh_lfdistal_visual">
        <mesh filename="package://sr_description/meshes/components/f_distal/pst/f_distal_pst.dae" scale="0.001 0.001 0.001"/>
      </geometry>
    </visual>
    <collision>
      <origin rpy="0 0 0" xyz="0 0 0"/>
      <geometry name="rh_lfdistal_collision_geom">
        <mesh filename="package://sr_description/meshes/components/f_distal/pst/f_distal_pst.dae" scale="0.001 0.001 0.001"/>
      </geometry>
    </collision>
  </link>
  <joint name="rh_LFJ1" type="revolute">
    <parent link="rh_lfmiddle"/>
    <child link="rh_lfdistal"/>
    <origin rpy="0 0 0" xyz="0 0 0.025"/>
    <axis xyz="1 0 0"/>
    <!-- standard distal joint -->
    <limit effort="2" lower="0" upper="1.5707963267948966" velocity="2.0"/>
    <dynamics damping="0.1"/>
  </joint>
  <gazebo reference="rh_LFJ1">
    <provideFeedback>1</provideFeedback>
    <implicitSpringDamper>1</implicitSpringDamper>
  </gazebo>
  <link name="rh_lftip">
    <inertial>
      <mass value="0.001"/>
      <inertia ixx="0.0" ixy="0.0" ixz="0.0" iyy="0.0" iyz="0.0" izz="0.0"/>
    </inertial>
  </link>
  <joint name="rh_LFtip" type="fixed">
    <parent link="rh_lfdistal"/>
    <child link="rh_lftip"/>
    <origin rpy="0 0 0" xyz="0 0 0.026"/>
  </joint>
  <gazebo reference="rh_lfdistal">
    <sensor name="rh_lfdistal_contact" type="contact">
      <always_on>1</always_on>
      <update_rate>1000.0</update_rate>
      <contact>
        <collision>rh_lfdistal_collision</collision>
        <topic>rh_lfdistal_collision</topic>
      </contact>
      <plugin filename="libgazebo_ros_bumper.so" name="rh_lfdistal_gazebo_ros_bumper_controller">
        <alwaysOn>true</alwaysOn>
        <frameName>rh_lfdistal</frameName>
        <updateRate>100.0</updateRate>
        <bumperTopicName>contacts/rh_lf/distal</bumperTopicName>
      </plugin>
    </sensor>
    <mu1 value="500.0"/>
    <mu2 value="500.0"/>
    <kp value="10000000.0"/>
    <kd value="1.0"/>
    <selfCollide>true</selfCollide>
  </gazebo>
  <link name="rh_thbase">
    <inertial>
      <mass value="0.010"/>
      <origin rpy="0 0 0" xyz="0 0 0"/>
      <inertia ixx="0.00000016" ixy="0.0" ixz="0.0" iyy="0.00000016" iyz="0.0" izz="0.00000016"/>
    </inertial>
    <visual>
      <origin rpy="0 0 0" xyz="0 0 0"/>
      <geometry name="rh_thbase_visual">
        <box size="0.001 0.001 0.001"/>
      </geometry>
      <material name="shadow_thbase_material">
        <color rgba="0.5 0.5 0.5 1.0"/>
      </material>
    </visual>
    <collision>
      <origin rpy="0 0 0" xyz="0 0 0"/>
      <geometry name="rh_thbase_collision_geom">
        <sphere radius="0.011"/>
      </geometry>
    </collision>
  </link>
  <joint name="rh_THJ5" type="revolute">
    <parent link="rh_palm"/>
    <child link="rh_thbase"/>
    <origin rpy="-0.7853981633974483 0 -1.5707963267948966" xyz="0.034 -0.00858 0.029"/>
    <axis xyz="0 0 -1"/>
    <limit effort="5.0" lower="-1.0471975511965976" upper="1.0471975511965976" velocity="4.0"/>
    <dynamics damping="0.2"/>
  </joint>
  <gazebo reference="rh_THJ5">
    <provideFeedback>1</provideFeedback>
    <implicitSpringDamper>1</implicitSpringDamper>
  </gazebo>
  <transmission name="rh_thbase_transmission">
    <type>sr_mechanism_model/SimpleTransmission</type>
    <actuator name="rh_THJ5">
      <mechanicalReduction>1</mechanicalReduction>
    </actuator>
    <joint name="rh_THJ5">
      <hardwareInterface>EffortJointInterface</hardwareInterface>
      <hardwareInterface>PositionJointInterface</hardwareInterface>
    </joint>
  </transmission>
  <gazebo reference="rh_thbase">
    <!-- base is inside the proximal and not exposed, so bumper is not needed -->
    <selfCollide>false</selfCollide>
  </gazebo>
  <link name="rh_thproximal">
    <inertial>
      <mass value="0.040"/>
      <origin rpy="0 0 0" xyz="0 0 0.019"/>
      <inertia ixx="0.0000136" ixy="0.0" ixz="0.0" iyy="0.0000136" iyz="0.0" izz="0.00000313"/>
    </inertial>
    <visual>
      <origin rpy="0 0 0" xyz="0 0 0"/>
      <geometry name="rh_thproximal_visual">
        <mesh filename="package://sr_description/meshes/components/th_proximal/th_proximal_E3M5.dae" scale="0.001 0.001 0.001"/>
      </geometry>
      <material name="shadow_thproximal_material">
        <color rgba="0.2 0.2 0.2 1.0"/>
      </material>
    </visual>
    <collision>
      <origin rpy="0 0 0" xyz="0 0 0.020"/>
      <geometry name="rh_thproximal_collision_geom">
        <cylinder length="0.018" radius="0.012"/>
      </geometry>
    </collision>
  </link>
  <joint name="rh_THJ4" type="revolute">
    <parent link="rh_thbase"/>
    <child link="rh_thproximal"/>
    <origin rpy="0 0 0" xyz="0 0 0"/>
    <axis xyz="0 1 0"/>
    <limit effort="3" lower="0.0" upper="1.2217304763960306" velocity="4.0"/>
    <dynamics damping="0.2"/>
  </joint>
  <gazebo reference="rh_THJ4">
    <provideFeedback>1</provideFeedback>
    <implicitSpringDamper>1</implicitSpringDamper>
  </gazebo>
  <transmission name="rh_thproximal_transmission">
    <type>sr_mechanism_model/SimpleTransmission</type>
    <actuator name="rh_THJ4">
      <mechanicalReduction>1</mechanicalReduction>
    </actuator>
    <joint name="rh_THJ4">
      <hardwareInterface>EffortJointInterface</hardwareInterface>
      <hardwareInterface>PositionJointInterface</hardwareInterface>
    </joint>
  </transmission>
  <gazebo reference="rh_thproximal">
    <selfCollide>false</selfCollide>
  </gazebo>
  <link name="rh_thhub">
    <inertial>
      <mass value="0.005"/>
      <origin rpy="0 0 0" xyz="0 0 0"/>
      <inertia ixx="0.000001" ixy="0.0" ixz="0.0" iyy="0.000001" iyz="0.0" izz="0.0000003"/>
    </inertial>
    <visual>
      <origin rpy="0 0 0" xyz="0 0 0"/>
      <geometry name="rh_thhub_visual">
        <box size="0.001 0.001 0.001"/>
      </geometry>
      <material name="shadow_thhub_material">
        <color rgba="0.7 0.7 0.7 1.0"/>
      </material>
    </visual>
    <collision>
      <origin rpy="0 0 0" xyz="0 0 0"/>
      <geometry name="rh_thhub_collision_geom">
        <sphere radius="0.010"/>
      </geometry>
    </collision>
  </link>
  <joint name="rh_THJ3" type="revolute">
    <parent link="rh_thproximal"/>
    <child link="rh_thhub"/>
    <origin rpy="0 0 0" xyz="0 0 0.038"/>
    <axis xyz="0 1 0"/>
    <limit effort="2.0" lower="-0.20943951023931953" upper="0.20943951023931953" velocity="4.0"/>
    <dynamics damping="0.2"/>
  </joint>
  <gazebo reference="rh_THJ3">
    <provideFeedback>1</provideFeedback>
    <implicitSpringDamper>1</implicitSpringDamper>
  </gazebo>
  <transmission name="rh_thhub_transmission">
    <type>sr_mechanism_model/SimpleTransmission</type>
    <actuator name="rh_THJ3">
      <mechanicalReduction>1</mechanicalReduction>
    </actuator>
    <joint name="rh_THJ3">
      <hardwareInterface>EffortJointInterface</hardwareInterface>
      <hardwareInterface>PositionJointInterface</hardwareInterface>
    </joint>
  </transmission>
  <gazebo reference="rh_thhub">
    <!-- hub is inside the proximal and not exposed, so bumper is not needed -->
    <selfCollide>false</selfCollide>
  </gazebo>
  <link name="rh_thmiddle">
    <inertial>
      <mass value="0.020"/>
      <origin rpy="0 0 0" xyz="0 0 0.016"/>
      <inertia ixx="0.0000051" ixy="0.0" ixz="0.0" iyy="0.0000051" iyz="0.0" izz="0.00000121"/>
    </inertial>
    <visual>
      <origin rpy="0 0 0" xyz="0 0 0"/>
      <geometry name="rh_thmiddle_visual">
        <mesh filename="package://sr_description/meshes/components/th_middle/th_middle_E3M5.dae" scale="0.001 0.001 0.001"/>
      </geometry>
      <material name="shadow_thmiddle_material">
        <color rgba="0.2 0.2 0.2 1.0"/>
      </material>
    </visual>
    <collision>
      <origin rpy="0 0 0" xyz="0 0 0.012"/>
      <geometry name="rh_thmiddle_collision_geom">
        <cylinder length="0.018" radius="0.011"/>
      </geometry>
    </collision>
    <collision>
      <origin rpy="0 0 0" xyz="0 0 0.019"/>
      <geometry>
        <sphere radius="0.011"/>
      </geometry>
    </collision>
  </link>
  <joint name="rh_THJ2" type="revolute">
    <parent link="rh_thhub"/>
    <child link="rh_thmiddle"/>
    <origin rpy="0 0 0" xyz="0 0 0"/>
    <axis xyz="1 0 0"/>
    <limit effort="2.0" lower="-0.6981317007977318" upper="0.6981317007977318" velocity="2.0"/>
    <dynamics damping="0.1"/>
  </joint>
  <gazebo reference="rh_THJ2">
    <provideFeedback>1</provideFeedback>
    <implicitSpringDamper>1</implicitSpringDamper>
  </gazebo>
  <transmission name="rh_thmiddle_transmission">
    <type>sr_mechanism_model/SimpleTransmission</type>
    <actuator name="rh_THJ2">
      <mechanicalReduction>1</mechanicalReduction>
    </actuator>
    <joint name="rh_THJ2">
      <hardwareInterface>EffortJointInterface</hardwareInterface>
      <hardwareInterface>PositionJointInterface</hardwareInterface>
    </joint>
  </transmission>
  <gazebo reference="rh_thmiddle">
  </gazebo>
  <!-- common -->
  <link name="rh_thdistal">
    <inertial>
      <mass value="0.016"/>
      <origin rpy="0 0 0" xyz="0 0 0.01375"/>
      <inertia ixx="0.0000021" ixy="0.0" ixz="0.0" iyy="0.0000022" iyz="0.0" izz="0.000001"/>
    </inertial>
    <visual>
      <origin rpy="0 0 0" xyz="0 0 0"/>
      <geometry name="rh_thdistal_visual">
        <mesh filename="package://sr_description/meshes/components/th_distal/pst/th_distal_pst.dae" scale="0.001 0.001 0.001"/>
      </geometry>
      <material name="shadow_thmiddle_material">
        <color rgba="0.2 0.2 0.2 1.0"/>
      </material>
    </visual>
    <collision>
      <origin rpy="0 0 0" xyz="0 0 0"/>
      <geometry name="rh_thmiddle_collision_geom">
        <mesh filename="package://sr_description/meshes/components/th_distal/pst/th_distal_pst.dae" scale="0.001 0.001 0.001"/>
      </geometry>
    </collision>
  </link>
  <joint name="rh_THJ1" type="revolute">
    <parent link="rh_thmiddle"/>
    <child link="rh_thdistal"/>
    <origin rpy="0 0 0" xyz="0 0 0.032"/>
    <axis xyz="1 0 0"/>
    <limit effort="1.0" lower="-0.2617993877991494" upper="1.5707963267948966" velocity="4.0"/>
    <dynamics damping="0.2"/>
  </joint>
  <gazebo reference="rh_THJ1">
    <provideFeedback>1</provideFeedback>
    <implicitSpringDamper>1</implicitSpringDamper>
  </gazebo>
  <link name="rh_thtip">
    <inertial>
      <mass value="0.001"/>
      <inertia ixx="0.0" ixy="0.0" ixz="0.0" iyy="0.0" iyz="0.0" izz="0.0"/>
    </inertial>
  </link>
  <joint name="rh_thtip" type="fixed">
    <parent link="rh_thdistal"/>
    <child link="rh_thtip"/>
    <origin rpy="0 0 0" xyz="0 0 0.0275"/>
  </joint>
  <gazebo reference="rh_thdistal">
    <sensor name="rh_thdistal_contact" type="contact">
      <always_on>1</always_on>
      <update_rate>1000.0</update_rate>
      <contact>
        <collision>rh_thdistal_collision</collision>
        <topic>rh_thdistal_collision</topic>
      </contact>
      <plugin filename="libgazebo_ros_bumper.so" name="rh_thdistal_gazebo_ros_bumper_controller">
        <alwaysOn>true</alwaysOn>
        <frameName>rh_thdistal</frameName>
        <updateRate>100.0</updateRate>
        <bumperTopicName>contacts/rh_th/distal</bumperTopicName>
      </plugin>
    </sensor>
    <mu1 value="500.0"/>
    <mu2 value="500.0"/>
    <kp value="10000000.0"/>
    <kd value="1.0"/>
    <selfCollide>true</selfCollide>
  </gazebo>
  <transmission name="rh_thdistal_transmission">
    <type>sr_mechanism_model/SimpleTransmission</type>
    <actuator name="rh_THJ1">
      <mechanicalReduction>1</mechanicalReduction>
    </actuator>
    <joint name="rh_THJ1">
      <hardwareInterface>EffortJointInterface</hardwareInterface>
      <hardwareInterface>PositionJointInterface</hardwareInterface>
    </joint>
  </transmission>
</robot>
